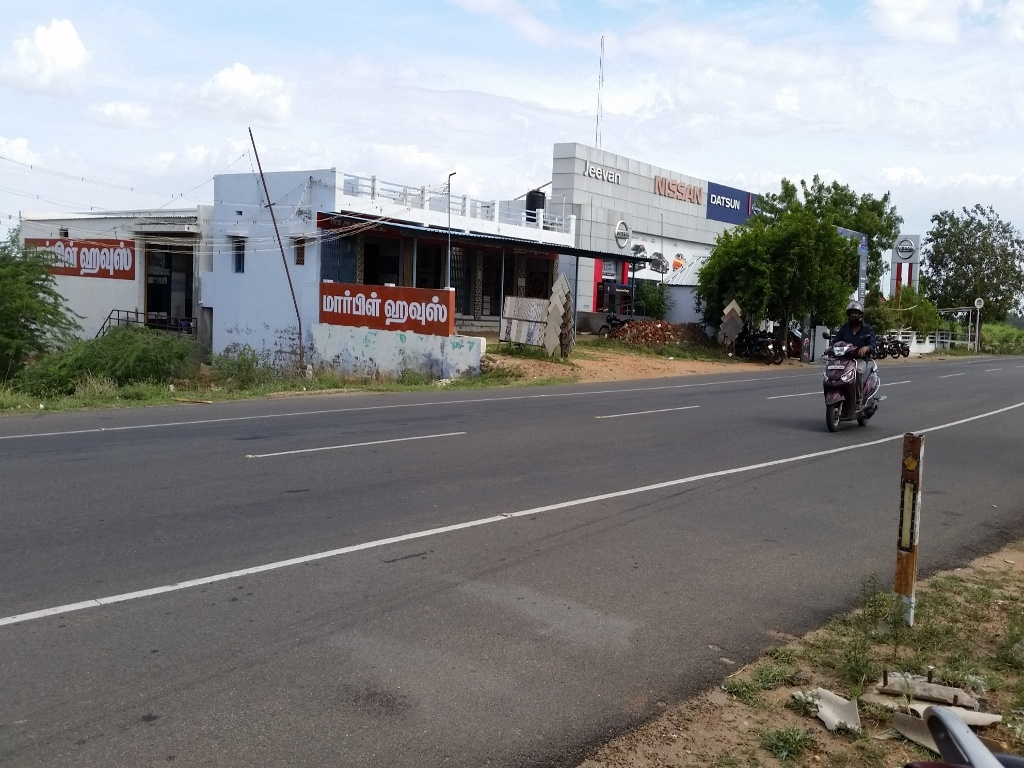biker: (805, 270, 904, 443)
helmet: (840, 290, 872, 335)
